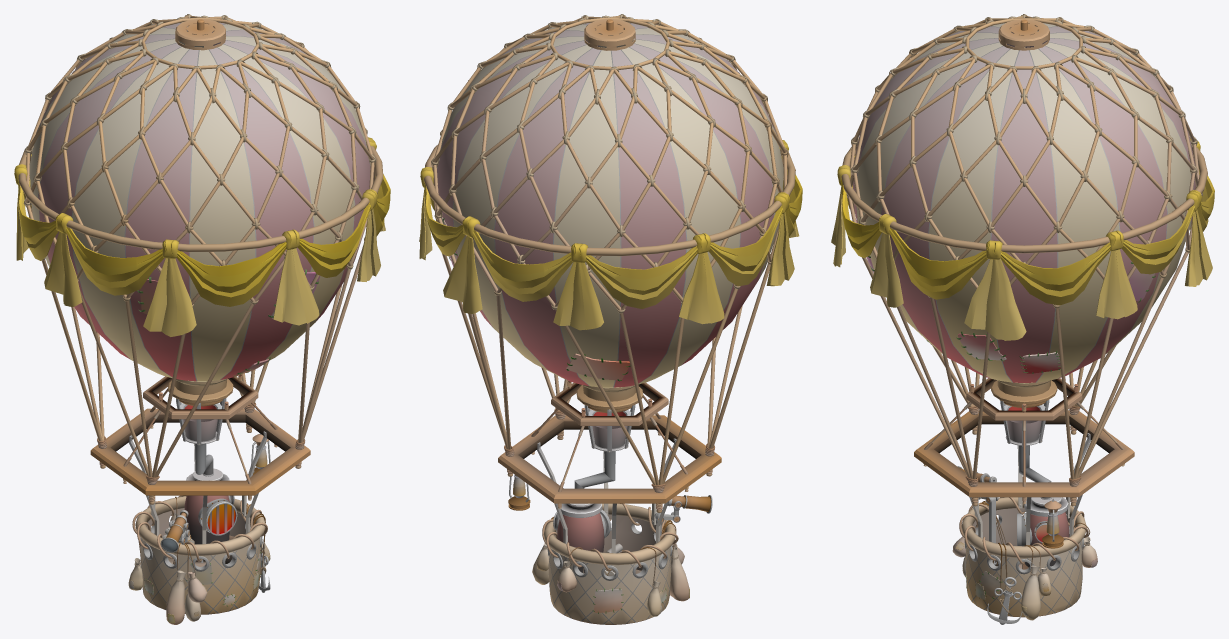
File: hot_air_balloon.glb
3 views of the same model, side by side, from view 1: azimuth 30°, elevation 25°; view 2: azimuth 150°, elevation 25°; view 3: azimuth 270°, elevation 25° (orthographic).
Visible parts, largest first — view 1: BezierCurve.003; view 2: BezierCurve.003; view 3: BezierCurve.003.
Part boxes in pixels (x1,y1,x2,y2): BezierCurve.003: [14, 14, 390, 624]; BezierCurve.003: [419, 14, 802, 624]; BezierCurve.003: [831, 14, 1214, 624].
Bounding box in the file's own units: 10.02 × 16.79 × 10.09.
